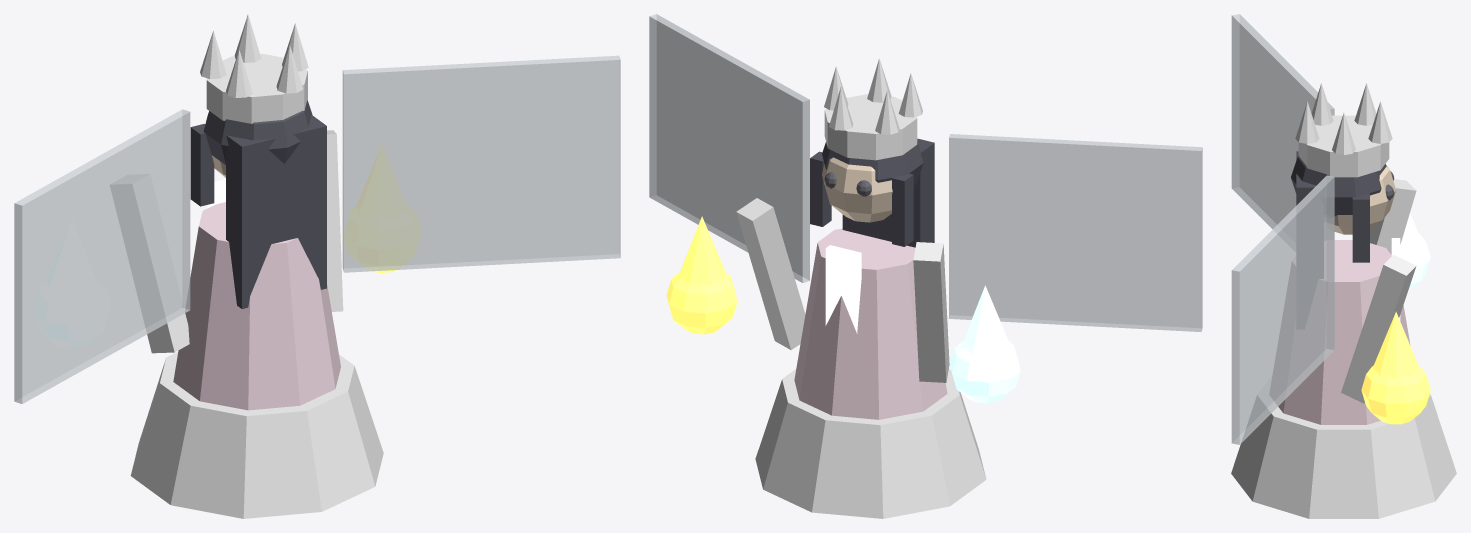
File: spirit_empress.glb
3 views of the same model, side by side, from view 1: azimuth 30°, elevation 25°; view 2: azimuth 150°, elevation 25°; view 3: azimuth 270°, elevation 25° (orthographic). The views are drawn at different scales.
Parts seen in each view (by area): view 1: spirit_empress; view 2: spirit_empress; view 3: spirit_empress.
Boxes of the visible parts, x1,y1,x2,y2 form: spirit_empress: [14, 14, 620, 518]; spirit_empress: [649, 14, 1202, 518]; spirit_empress: [1231, 14, 1456, 518].
Bounding box in the file's own units: 3.51 × 2.4 × 1.3.
